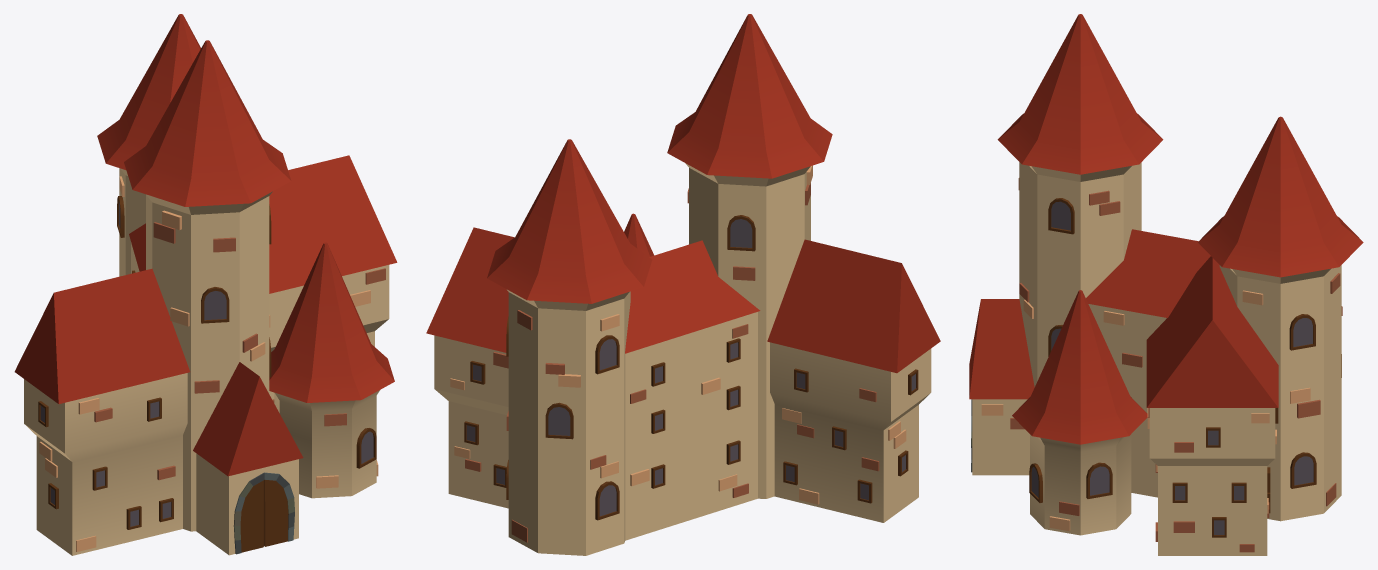
Rendered from Castle.glb.
3 views of the same model, side by side, from view 1: azimuth 30°, elevation 25°; view 2: azimuth 150°, elevation 25°; view 3: azimuth 270°, elevation 25° (orthographic). The views are drawn at different scales.
Parts seen in each view (by area): view 1: Castle; view 2: Castle; view 3: Castle.
Boxes of the visible parts, x1,y1,x2,y2 form: Castle: [14, 14, 397, 555]; Castle: [426, 14, 940, 555]; Castle: [969, 14, 1363, 555].
Size of the model in its own units: 5.27 by 5.91 by 4.75.
